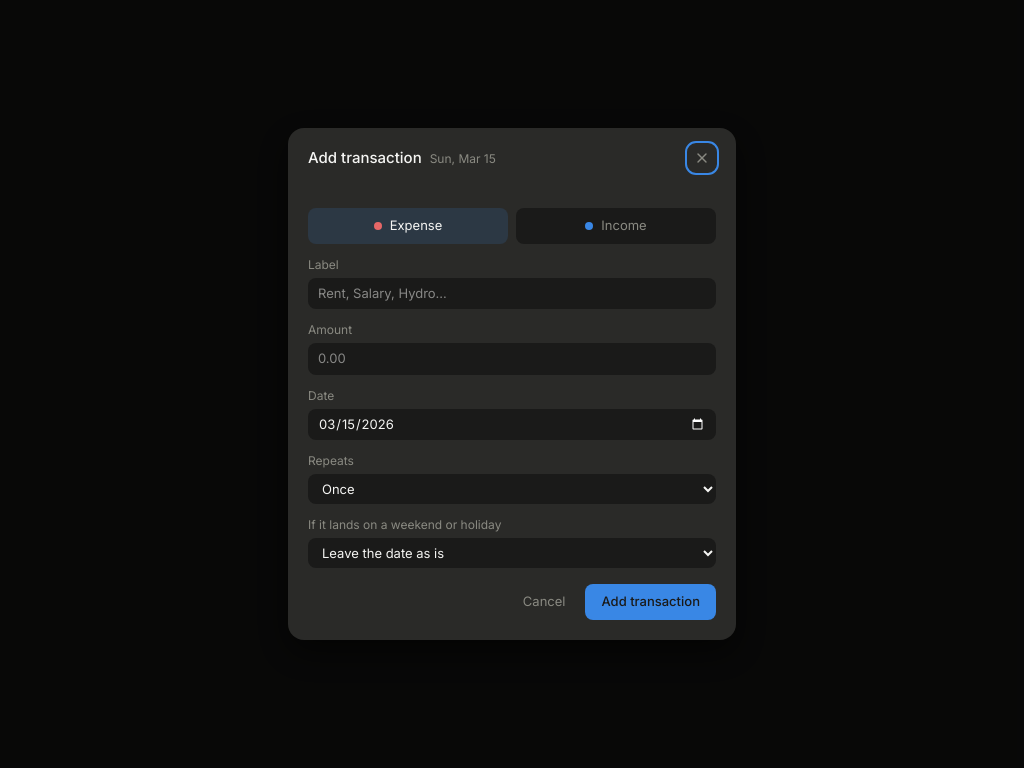
Scenario: validation › rejects an empty label
Type "12.34" into the field labelled "Amount" at (512, 359), box 308,343 -> 716,375
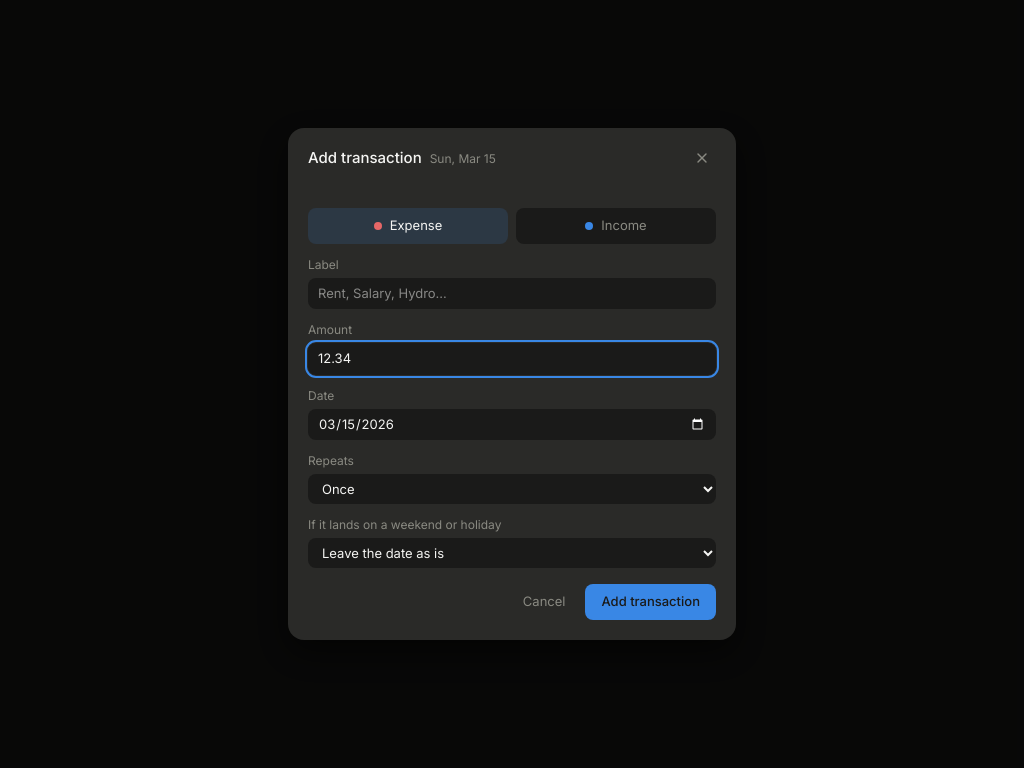
Click the button "Add transaction" at (651, 602), box 586,584 -> 716,620
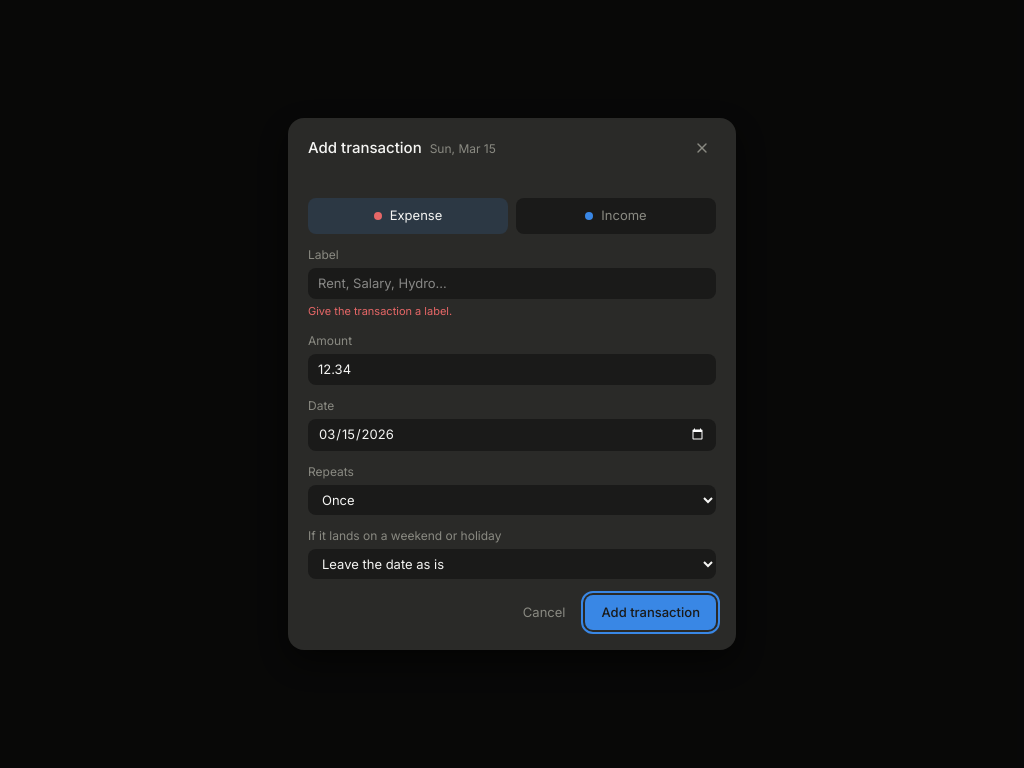
Check: the text "Give the transaction a label." is shown, box 308,304 -> 452,318
